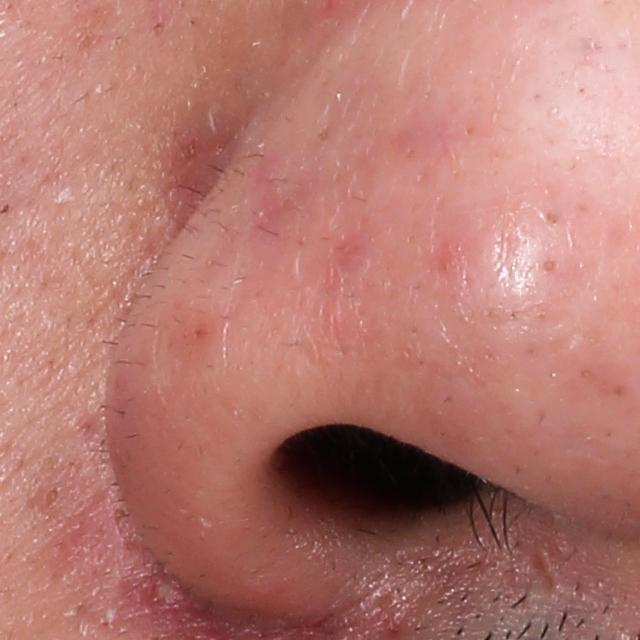atrophic_scar: (520, 538, 561, 598)
comedo: (42, 482, 64, 504), (542, 257, 559, 273)
